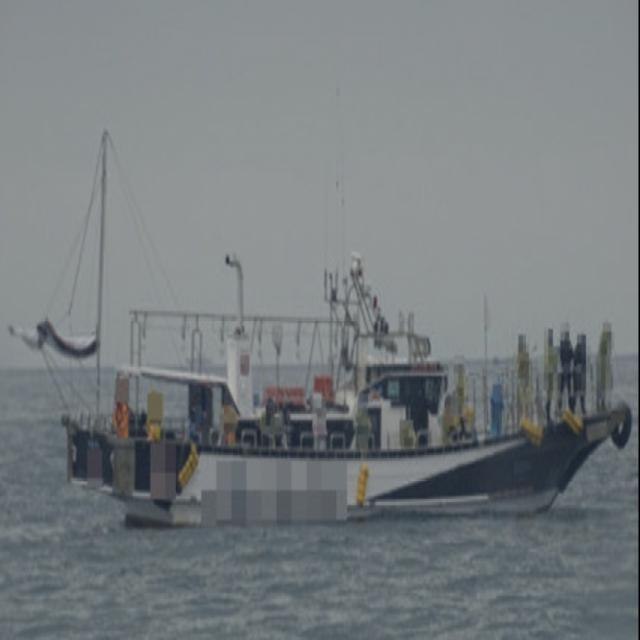Ship: (36, 174, 640, 556)
